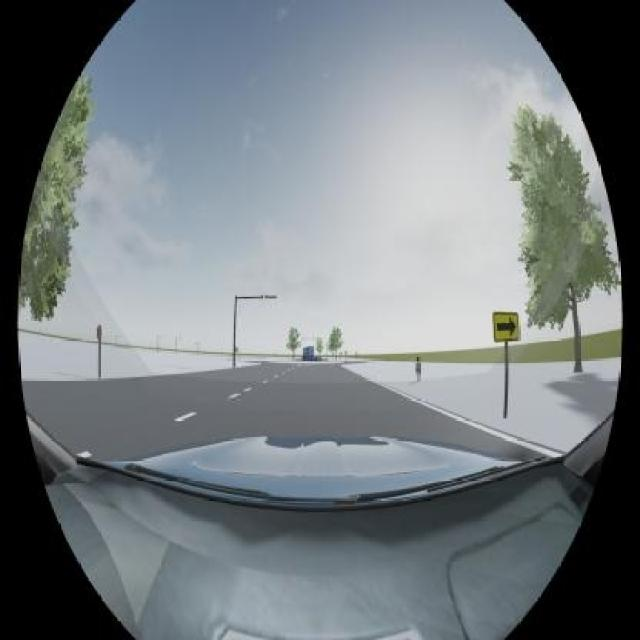forb_speed_over_30: (96, 325, 102, 339)
